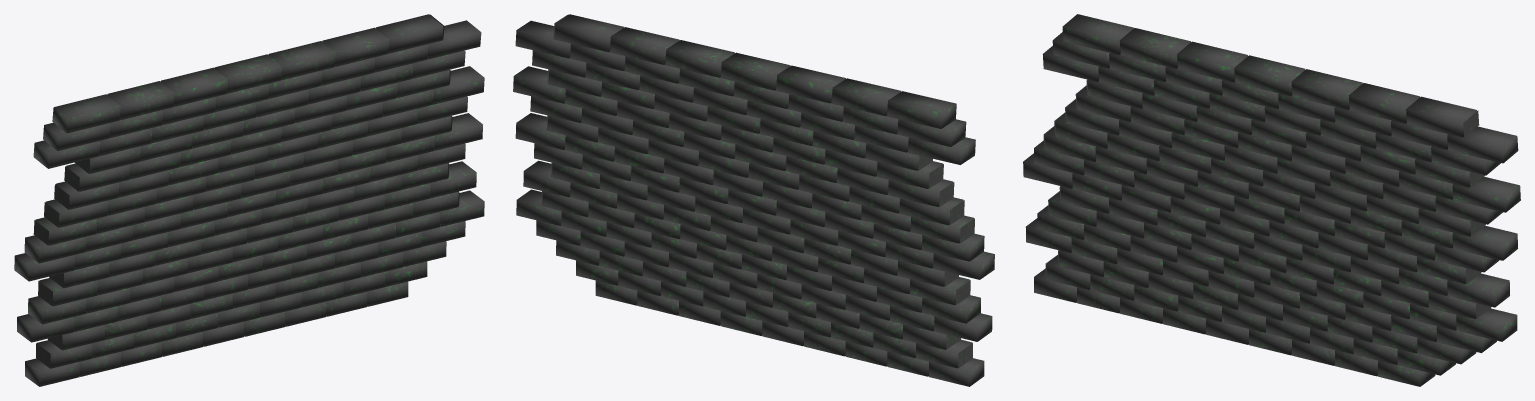
File: wall.glb
3 renders of one model, left to right at view 1: azimuth 30°, elevation 25°; view 2: azimuth 150°, elevation 25°; view 3: azimuth 330°, elevation 25°, orthographic. The views are drawn at different scales.
Visible parts, largest first — view 1: Cube; view 2: Cube; view 3: Cube.
Boxes of the visible parts, bbox=[...] form: Cube: bbox=[14, 14, 484, 386]; Cube: bbox=[513, 14, 994, 386]; Cube: bbox=[1023, 14, 1520, 386].
Size of the model in its own units: 25.83 by 14.17 by 1.85.
1 material, 1 textured.
